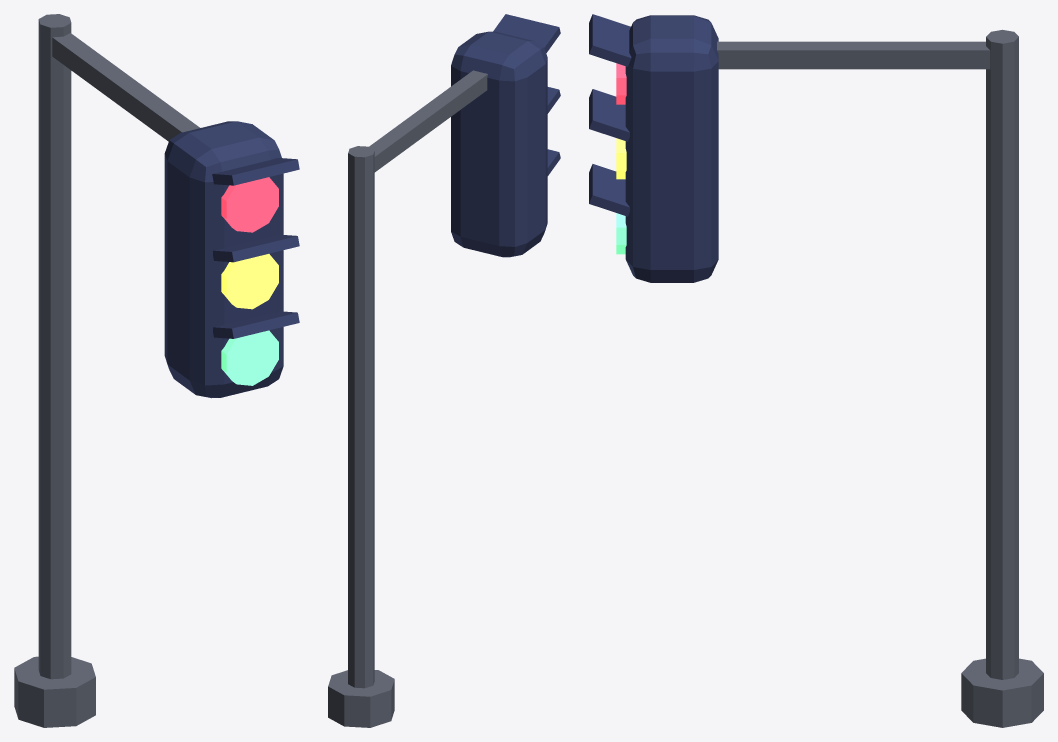
The model's file is prop_traffic_light.glb.
3 renders of one model, left to right at view 1: azimuth 30°, elevation 25°; view 2: azimuth 150°, elevation 25°; view 3: azimuth 270°, elevation 25°, orthographic. The views are drawn at different scales.
Visible parts, largest first — view 1: prop_traffic_light, light_red, light_green, light_amber; view 2: prop_traffic_light; view 3: prop_traffic_light.
Part boxes in pixels (x1=…): prop_traffic_light: x1=14, y1=14, x2=299, y2=727; light_red: x1=221, y1=177, x2=278, y2=232; light_green: x1=221, y1=330, x2=278, y2=385; light_amber: x1=221, y1=254, x2=278, y2=309; prop_traffic_light: x1=328, y1=14, x2=560, y2=727; prop_traffic_light: x1=589, y1=14, x2=1043, y2=727.
Bounding box in the file's own units: 0.5 × 3.65 × 2.2.
